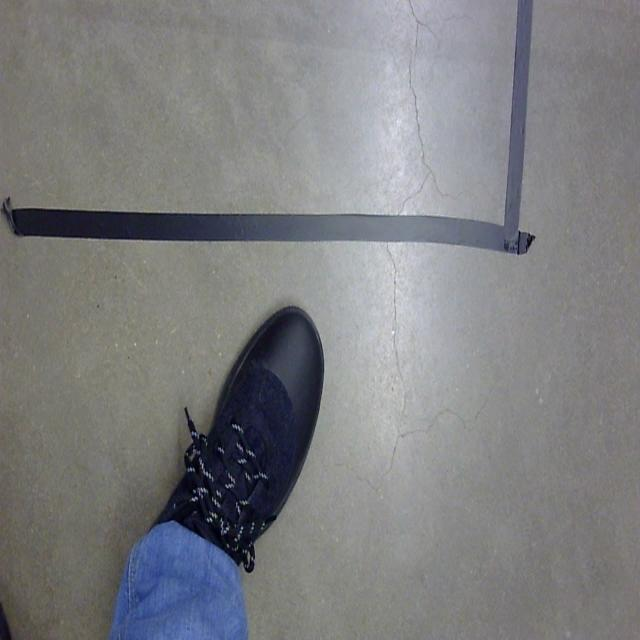tape: (2, 201, 537, 256), (502, 2, 537, 254)
